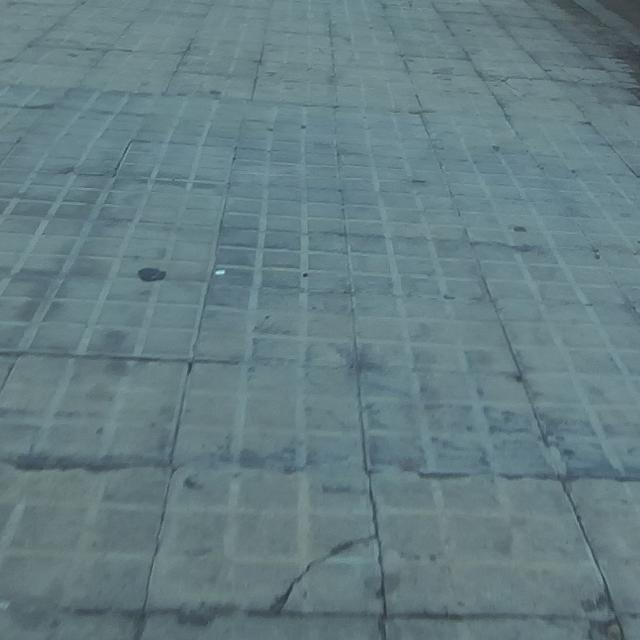calcada_quebrada: (275, 532, 376, 612)
